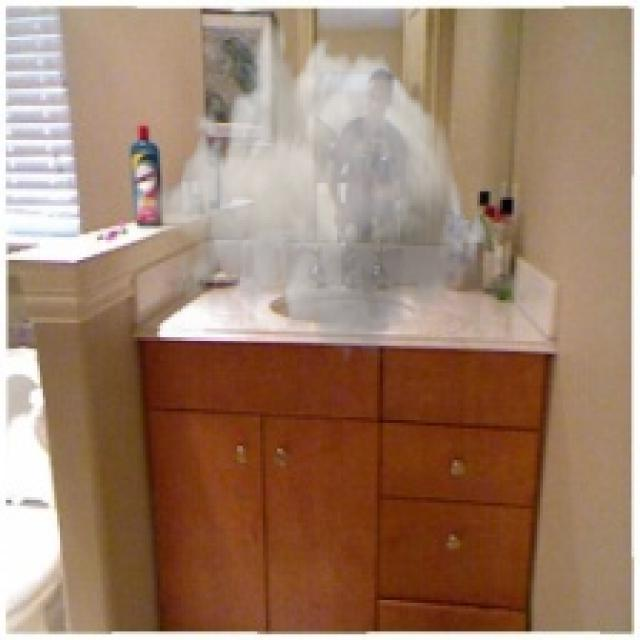smoke: (140, 11, 491, 366)
